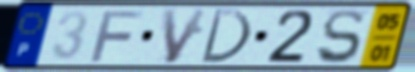2: (263, 8, 316, 66)
3: (50, 9, 93, 63)
D: (197, 7, 254, 65)
F: (88, 8, 147, 64)
S: (314, 7, 366, 66)
V: (160, 7, 211, 66)
